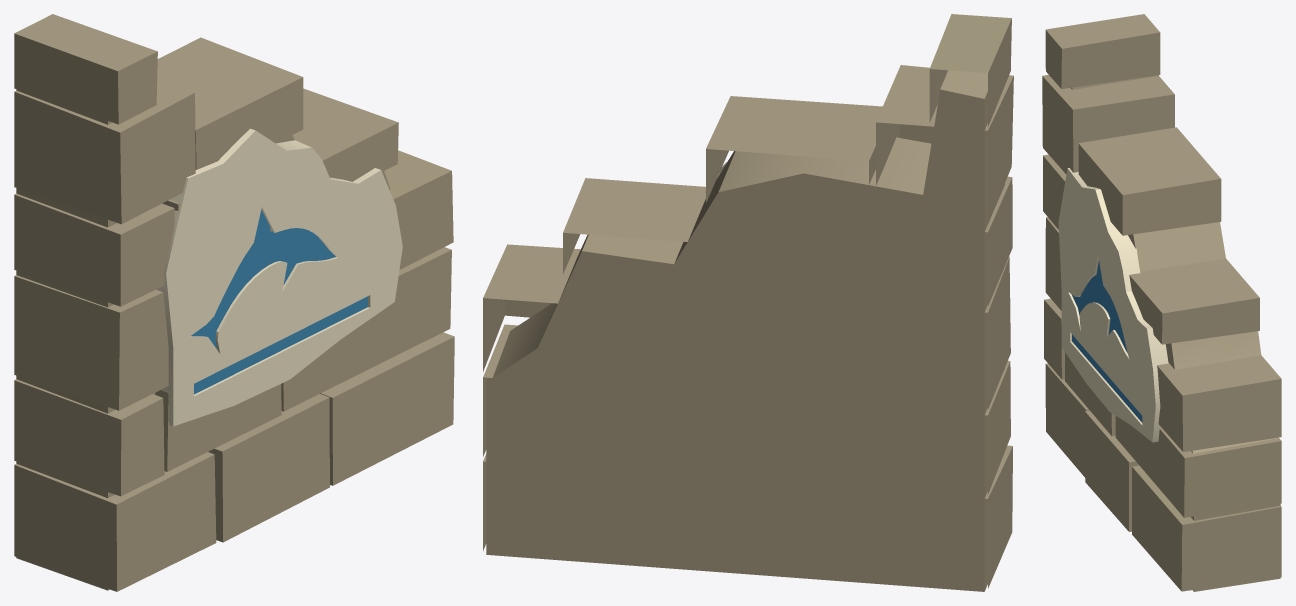
Rendered from wallfrag-0.glb.
The picture shows the model from 3 angles, left to right: view 1: azimuth 30°, elevation 25°; view 2: azimuth 150°, elevation 25°; view 3: azimuth 270°, elevation 25°; orthographic projection. The views are drawn at different scales.
Parts seen in each view (by area): view 1: wallfrag-0; view 2: wallfrag-0; view 3: wallfrag-0.
Boxes of the visible parts, x1,y1,x2,y2 form: wallfrag-0: [14, 14, 454, 591]; wallfrag-0: [483, 14, 1013, 591]; wallfrag-0: [1042, 14, 1281, 591].
Bounding box in the file's own units: 1.54 × 1.66 × 0.888.
